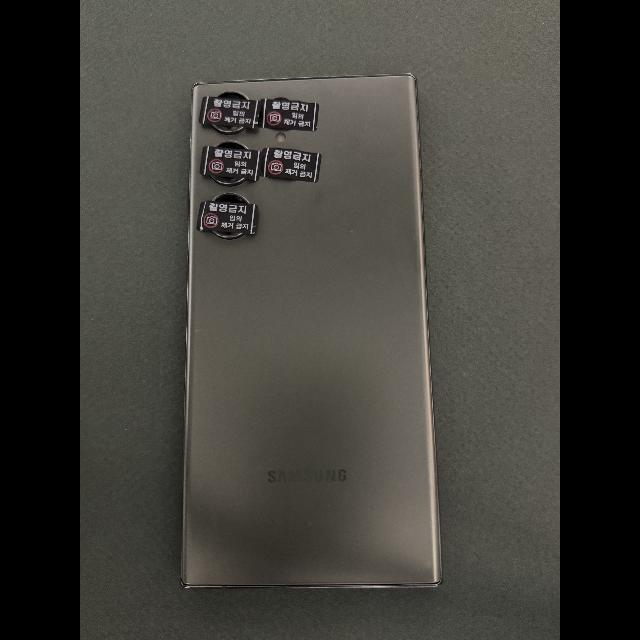lens: (212, 192, 250, 204), (210, 175, 247, 187), (211, 125, 246, 135), (274, 98, 288, 100)
phone: (182, 74, 441, 588)
sticker: (199, 146, 263, 181), (196, 200, 259, 234), (261, 148, 322, 183), (198, 96, 261, 129), (256, 98, 319, 131)
